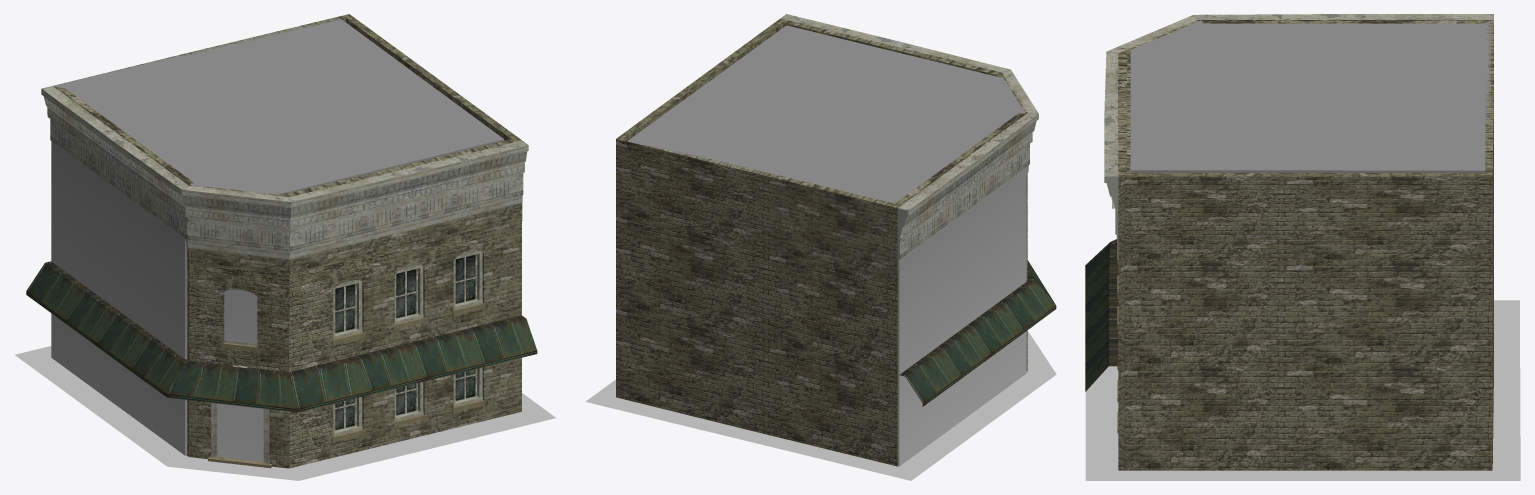
Rendered from BuildingCorner02.FBX.
3 views of the same model, side by side, from view 1: azimuth 30°, elevation 25°; view 2: azimuth 150°, elevation 25°; view 3: azimuth 270°, elevation 25° (orthographic). The views are drawn at different scales.
Visible parts, largest first — view 1: BldgCorner02_lod:0, BldgCorner02:7, BldgCorner02:6, BldgCorner02:0; view 2: BldgCorner02:6, BldgCorner02_lod:0, BldgCorner02:7, BldgCorner02:0; view 3: BldgCorner02:6, BldgCorner02_lod:0, BldgCorner02:0, BldgCorner02:7.
Boxes of the visible parts, left/top/right/bottom form: BldgCorner02_lod:0: left=51, top=17, right=504, bottom=461; BldgCorner02:7: left=26, top=86, right=537, bottom=468; BldgCorner02:6: left=53, top=14, right=522, bottom=468; BldgCorner02:0: left=15, top=346, right=555, bottom=480; BldgCorner02:6: left=616, top=18, right=1027, bottom=466; BldgCorner02_lod:0: left=627, top=25, right=1026, bottom=466; BldgCorner02:7: left=780, top=14, right=1056, bottom=406; BldgCorner02:0: left=585, top=331, right=1056, bottom=480; BldgCorner02:6: left=1118, top=20, right=1493, bottom=470; BldgCorner02_lod:0: left=1130, top=19, right=1492, bottom=172; BldgCorner02:0: left=1085, top=300, right=1520, bottom=480; BldgCorner02:7: left=1085, top=14, right=1493, bottom=433.
Bounding box in the file's own units: 9.74 × 7.42 × 9.91.
